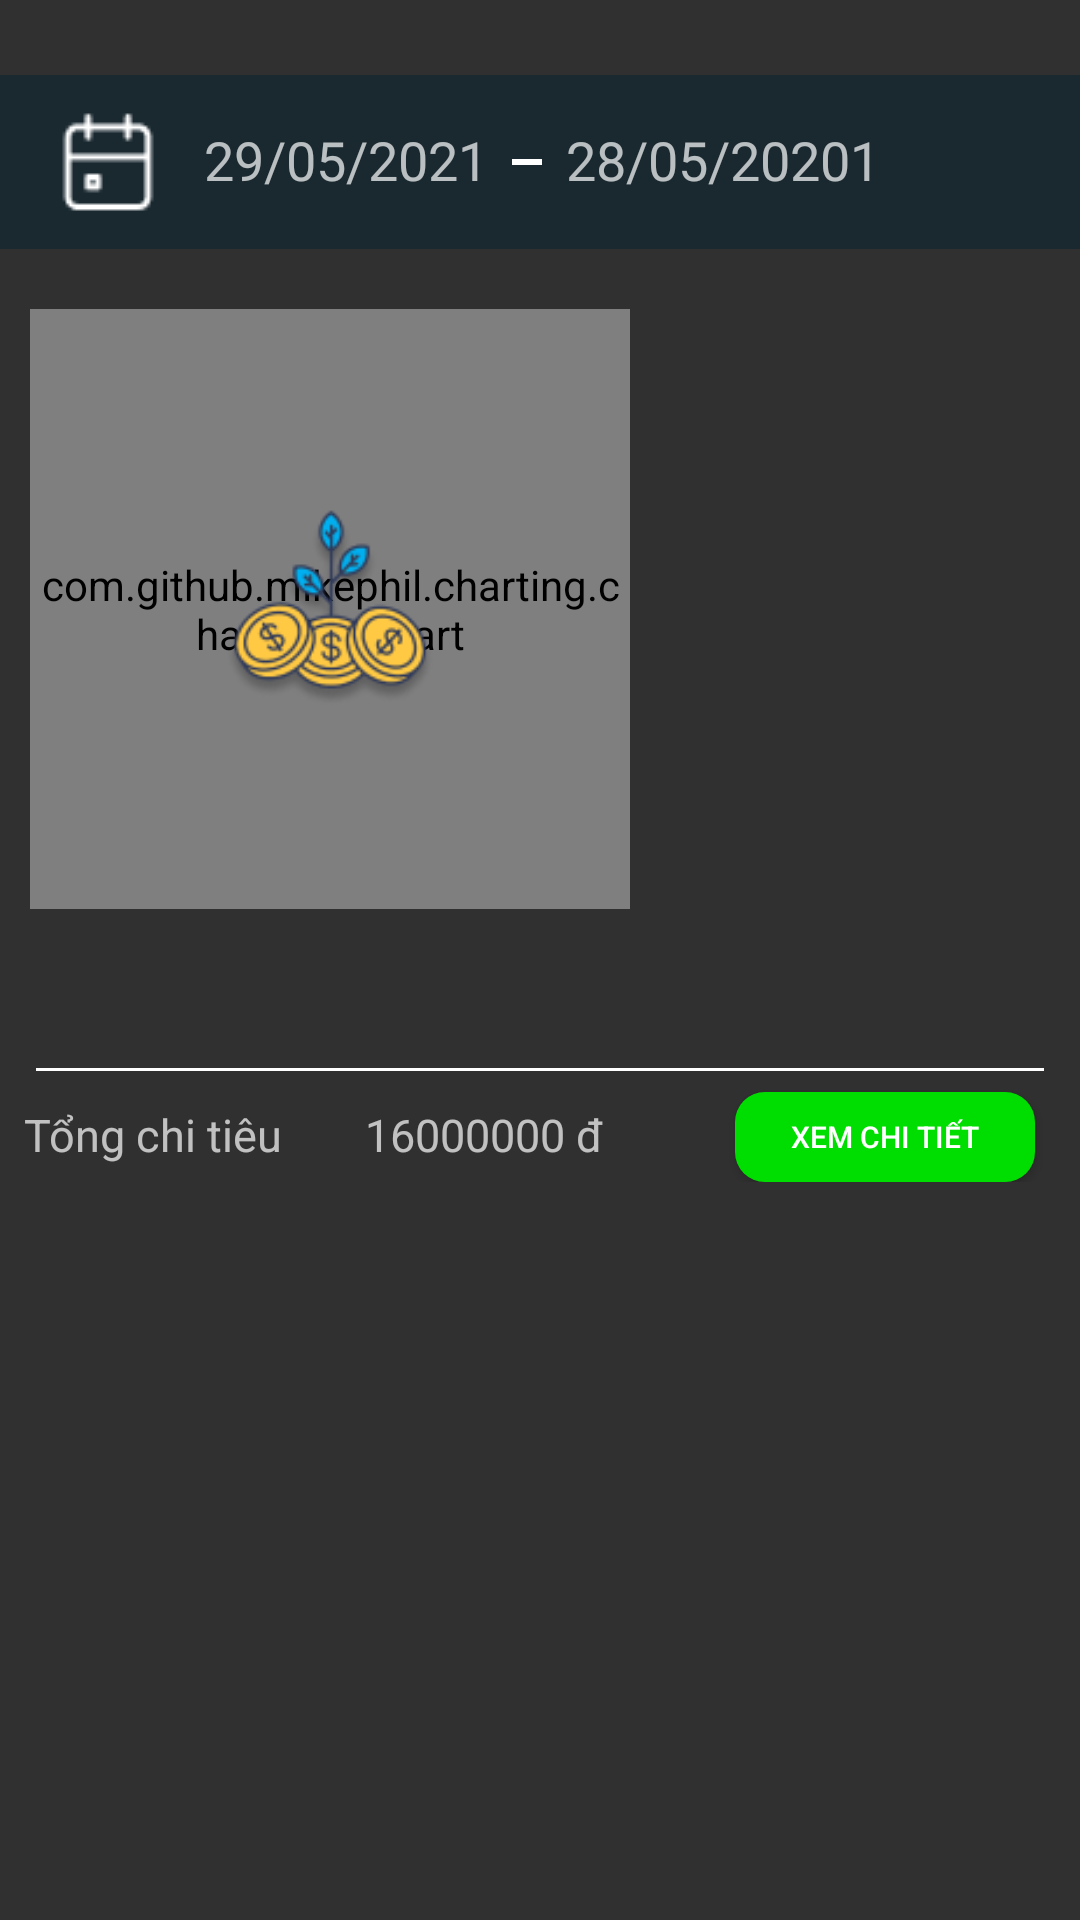

Icons on this 1080 × 1920 Android screen, each with the point to tap as [x,y]:
calendar: [108,162]
